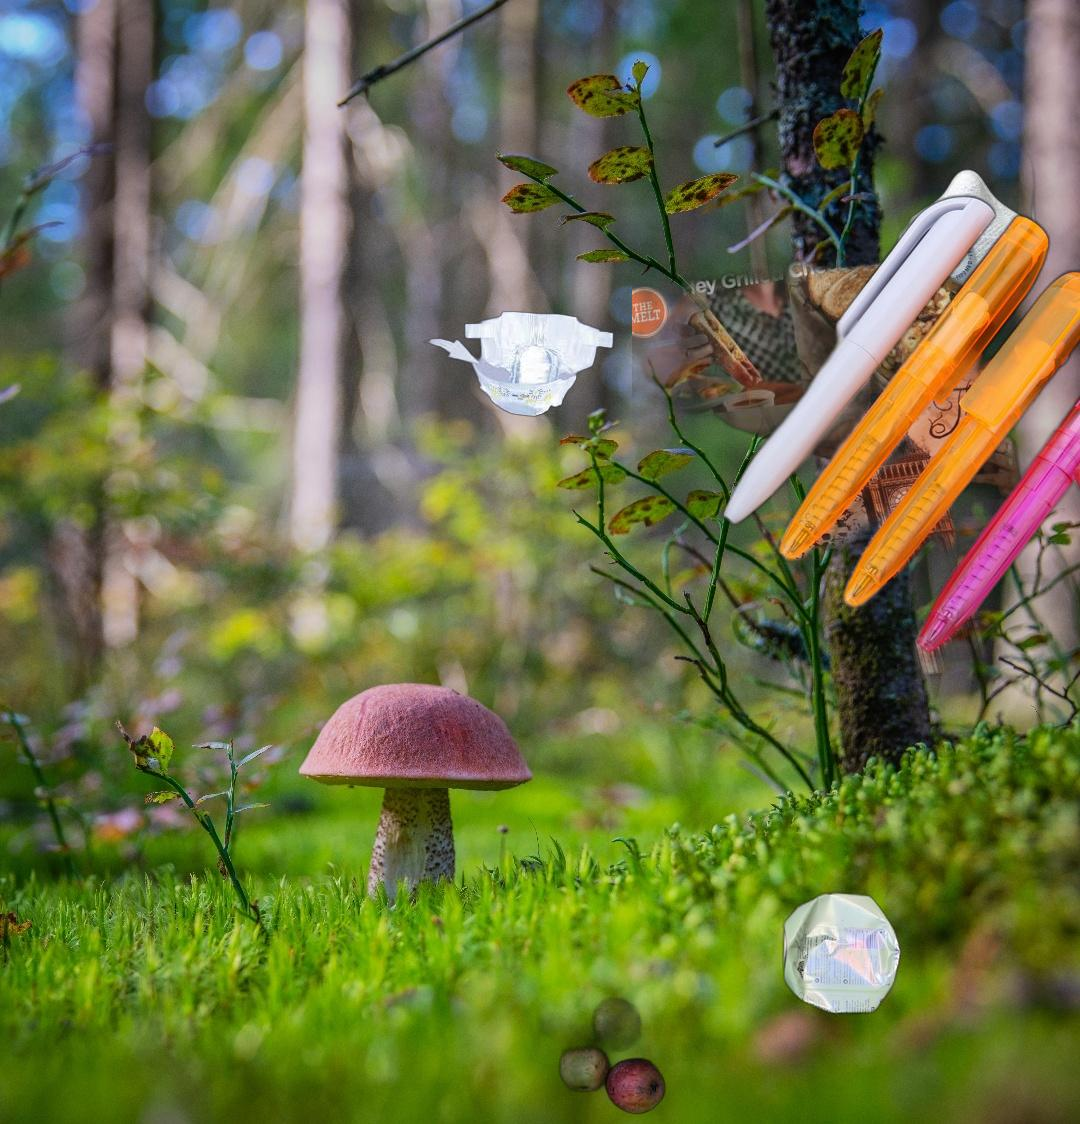biological: (517, 966, 696, 1124)
metal-cans: (779, 887, 905, 1020)
paper: (632, 163, 1032, 547)
penholder: (716, 188, 1080, 777)
trash: (881, 105, 1044, 328), (423, 309, 616, 419)
trashbox-cardboard: (640, 1067, 1080, 1124)
